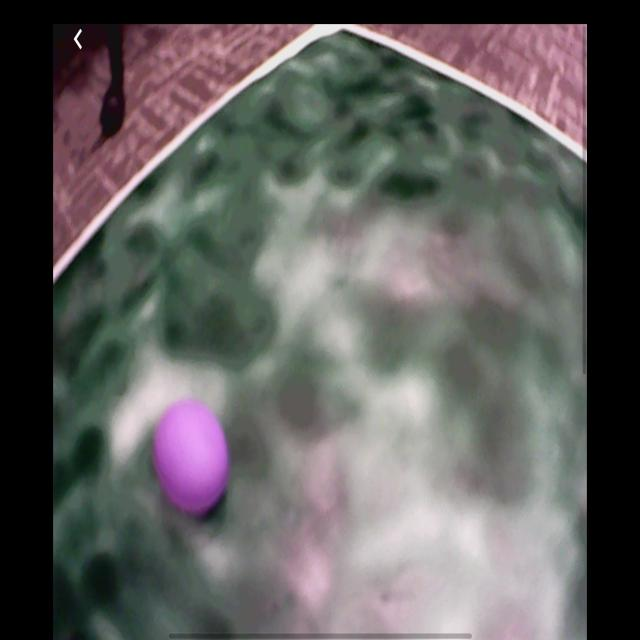ball: (152, 396, 231, 515)
